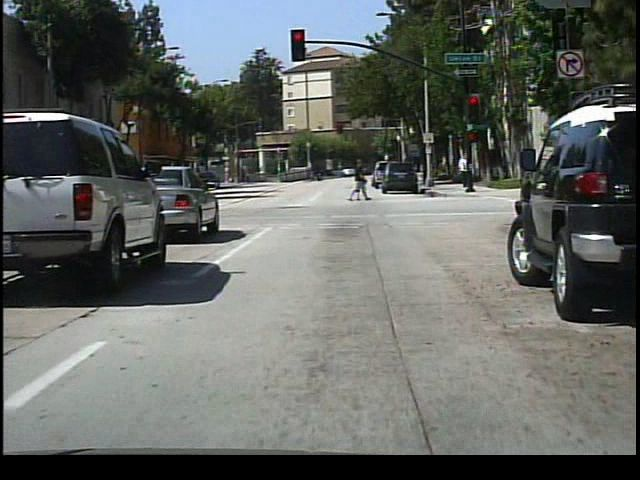person: (347, 158, 373, 203), (455, 149, 473, 192)
